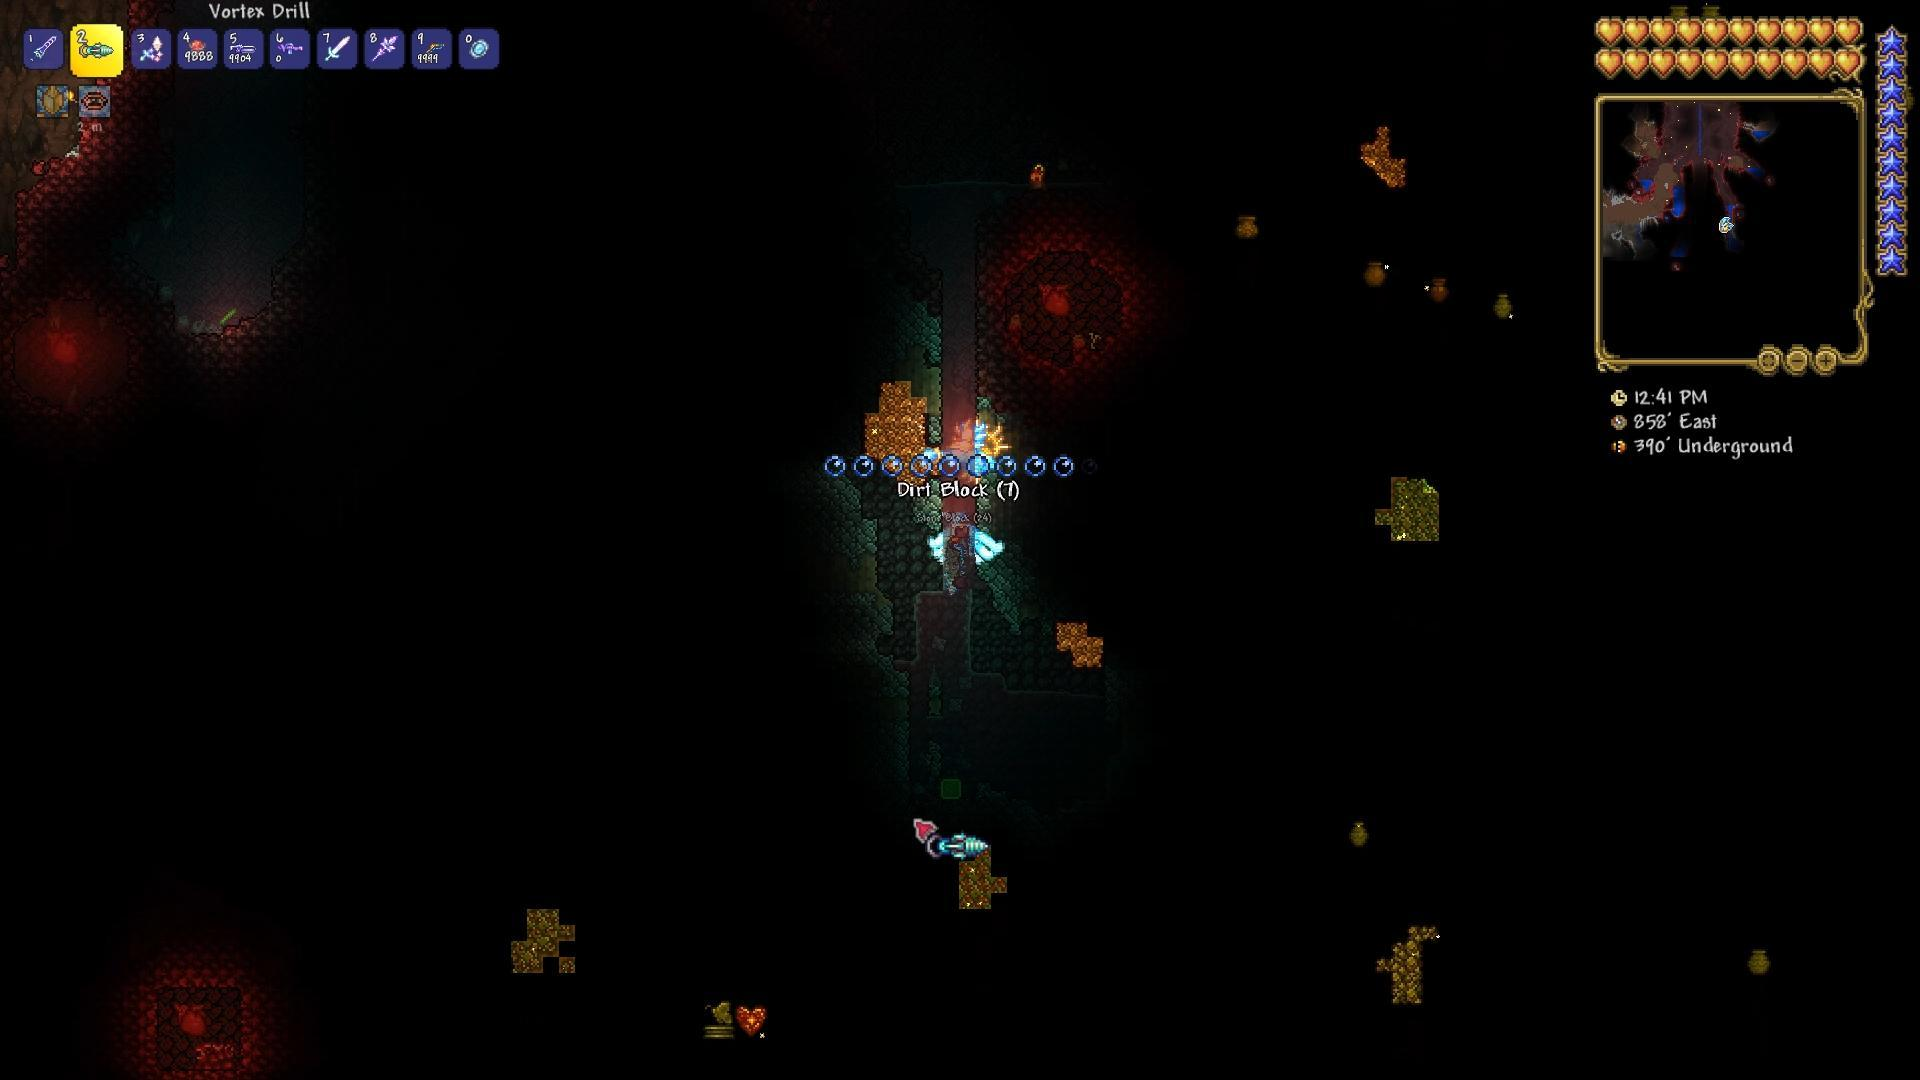lifeC: (735, 1005, 766, 1035)
mirror: (467, 36, 492, 65)
